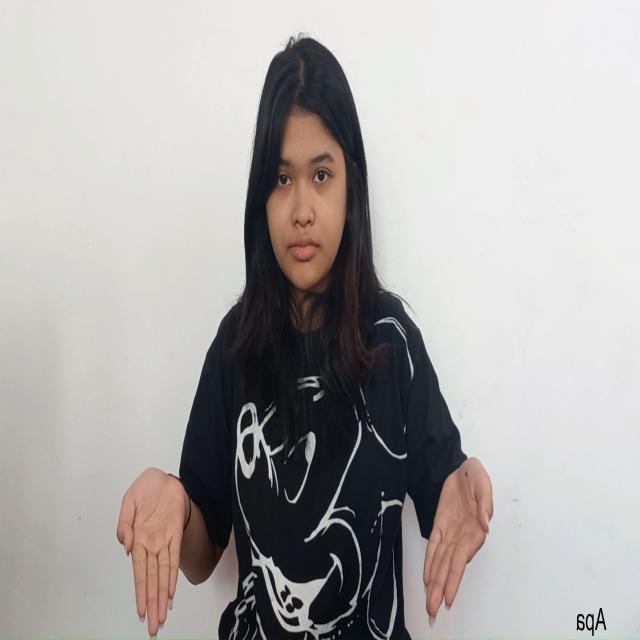Apa -BISINDO-: (114, 452, 496, 640)
